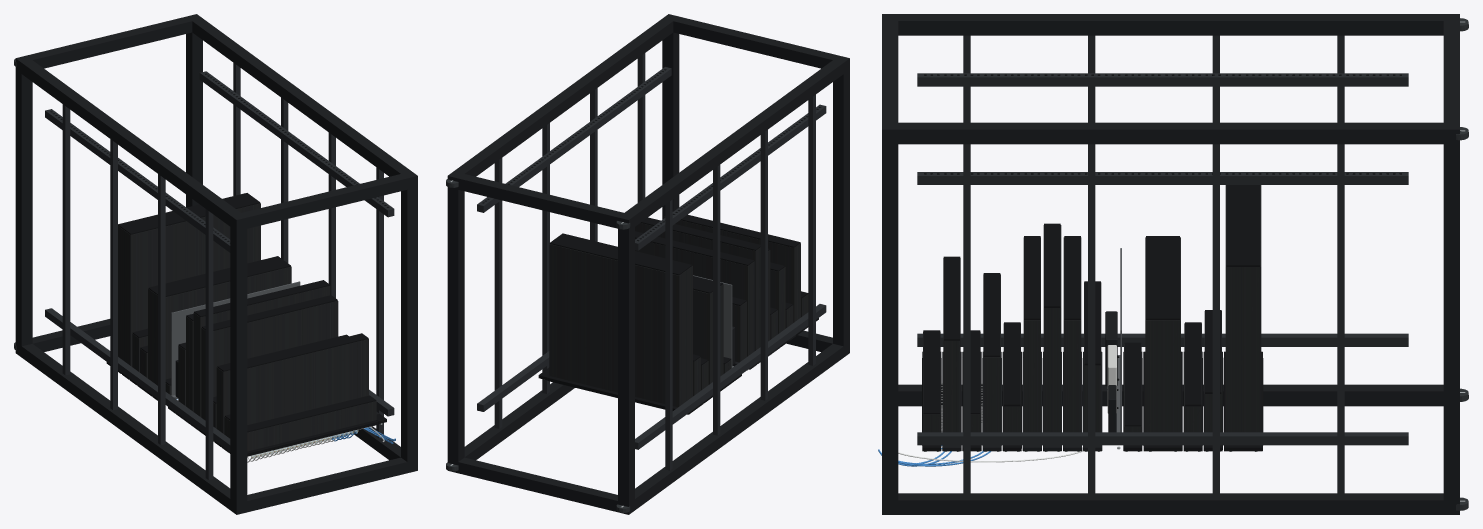
Rendered from mikrotik-isp-24u.glb.
3 views of the same model, side by side, from view 1: azimuth 30°, elevation 25°; view 2: azimuth 150°, elevation 25°; view 3: azimuth 270°, elevation 25° (orthographic). The views are drawn at different scales.
Visible parts, largest first — view 1: RACK_FRAME__nexus_black_dark, SIDE_BRACES__nexus_black, MIKROTIK_UPS__steel_textured, MOUNTING_RAILS__nexus_black, CRS354_48G__steel_textured, CRS518_16XS__steel_textured, FIBRE_ODF__steel_textured, PATCH_PANEL_A__steel_textured, CCR2216_12XS__steel_textured, PATCH_PANEL_A__mt_black_dark, FIBRE_ODF__mt_black_dark, DESKTOP_SHELF__mt_shelf (+7 smaller); view 2: RACK_FRAME__nexus_black_dark, MIKROTIK_UPS__steel_textured, SIDE_BRACES__nexus_black, MOUNTING_RAILS__nexus_black, CCR2004_12S__steel_textured, MIKROTIK_UPS__mt_black_dark, CRS354_48G__steel_textured, FIBRE_ODF__steel_textured, CCR2216_12XS__steel_textured, CRS326_24G__steel_textured, CRS354_48G__mt_black_dark, DESKTOP_SHELF__mt_shelf (+4 smaller); view 3: RACK_FRAME__nexus_black_dark, MOUNTING_RAILS__nexus_black, SIDE_BRACES__nexus_black, MIKROTIK_UPS__steel_textured, FIBRE_ODF__steel_textured, MIKROTIK_UPS__mt_black_dark, FIBRE_ODF__mt_black_dark, CCR2216_12XS__steel_textured, CCR2004_12S__steel_textured, CRS518_16XS__steel_textured, PATCH_PANEL_A__mt_black_dark, CRS354_48G__steel_textured (+15 smaller).
Boxes of the visible parts, x1,y1,x2,y2 form: RACK_FRAME__nexus_black_dark: [15, 14, 417, 514]; SIDE_BRACES__nexus_black: [62, 63, 383, 479]; MIKROTIK_UPS__steel_textured: [118, 203, 260, 366]; MOUNTING_RAILS__nexus_black: [45, 71, 394, 451]; CRS354_48G__steel_textured: [247, 339, 368, 424]; CRS518_16XS__steel_textured: [201, 301, 338, 420]; FIBRE_ODF__steel_textured: [148, 266, 291, 385]; PATCH_PANEL_A__steel_textured: [247, 401, 376, 451]; CCR2216_12XS__steel_textured: [193, 286, 330, 417]; PATCH_PANEL_A__mt_black_dark: [229, 395, 386, 456]; FIBRE_ODF__mt_black_dark: [137, 256, 290, 396]; DESKTOP_SHELF__mt_shelf: [171, 281, 300, 398]; RACK_FRAME__nexus_black_dark: [447, 14, 849, 514]; MIKROTIK_UPS__steel_textured: [549, 244, 692, 407]; SIDE_BRACES__nexus_black: [494, 53, 815, 470]; MOUNTING_RAILS__nexus_black: [477, 67, 826, 449]; CCR2004_12S__steel_textured: [635, 238, 754, 356]; MIKROTIK_UPS__mt_black_dark: [538, 233, 703, 414]; CRS354_48G__steel_textured: [664, 216, 800, 322]; FIBRE_ODF__steel_textured: [693, 284, 723, 384]; CCR2216_12XS__steel_textured: [635, 223, 760, 350]; CRS326_24G__steel_textured: [770, 267, 785, 333]; CRS354_48G__mt_black_dark: [664, 211, 800, 247]; DESKTOP_SHELF__mt_shelf: [693, 275, 733, 367]; RACK_FRAME__nexus_black_dark: [882, 14, 1459, 514]; MOUNTING_RAILS__nexus_black: [917, 73, 1408, 445]; SIDE_BRACES__nexus_black: [963, 35, 1344, 498]; MIKROTIK_UPS__steel_textured: [1225, 185, 1261, 432]; FIBRE_ODF__steel_textured: [1145, 237, 1180, 432]; MIKROTIK_UPS__mt_black_dark: [1223, 185, 1263, 451]; FIBRE_ODF__mt_black_dark: [1143, 236, 1182, 451]; CCR2216_12XS__steel_textured: [1043, 225, 1061, 432]; CCR2004_12S__steel_textured: [1063, 237, 1081, 432]; CRS518_16XS__steel_textured: [1023, 237, 1040, 432]; PATCH_PANEL_A__mt_black_dark: [922, 330, 941, 451]; CRS354_48G__steel_textured: [943, 258, 960, 432].
Bounding box in the file's own units: 0.609 × 0.9401 × 1.31.
Materials: 26 (4 with a texture image).
